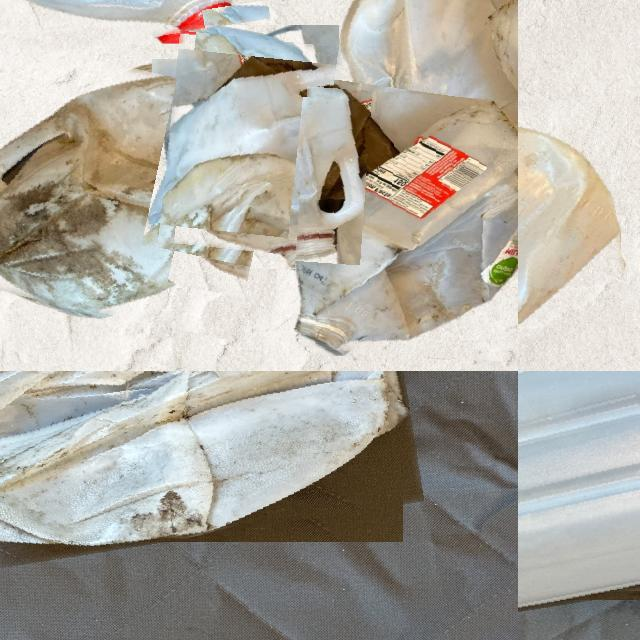milk-jug: (0, 371, 413, 559), (0, 49, 274, 325), (293, 89, 518, 358), (163, 35, 384, 257), (518, 371, 640, 620), (332, 0, 518, 159), (518, 108, 630, 371)
